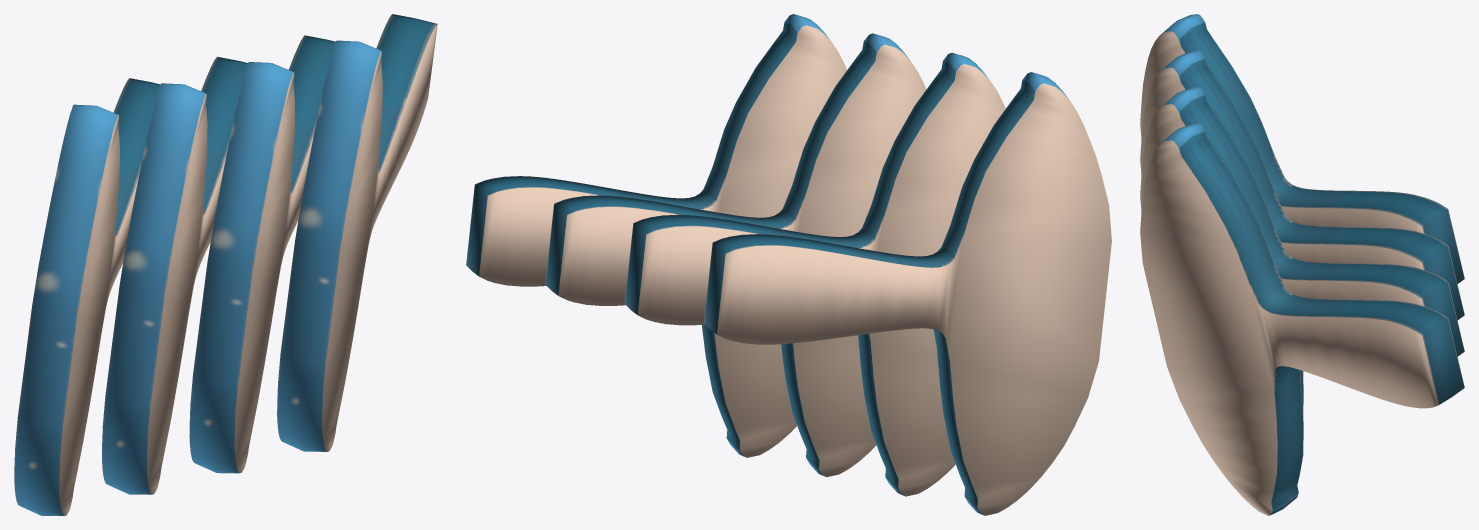
The model's file is AguaViva_cortado.fbx.
3 views of the same model, side by side, from view 1: azimuth 30°, elevation 25°; view 2: azimuth 150°, elevation 25°; view 3: azimuth 270°, elevation 25° (orthographic). The views are drawn at different scales.
Visible parts, largest first — view 1: AguaViva_cortado; view 2: AguaViva_cortado; view 3: AguaViva_cortado.
Boxes of the visible parts, x1=… form: AguaViva_cortado: x1=14, y1=14, x2=437, y2=515; AguaViva_cortado: x1=466, y1=14, x2=1111, y2=515; AguaViva_cortado: x1=1140, y1=14, x2=1464, y2=515.
Bounding box in the file's own units: 2.66 × 2.04 × 1.59.
